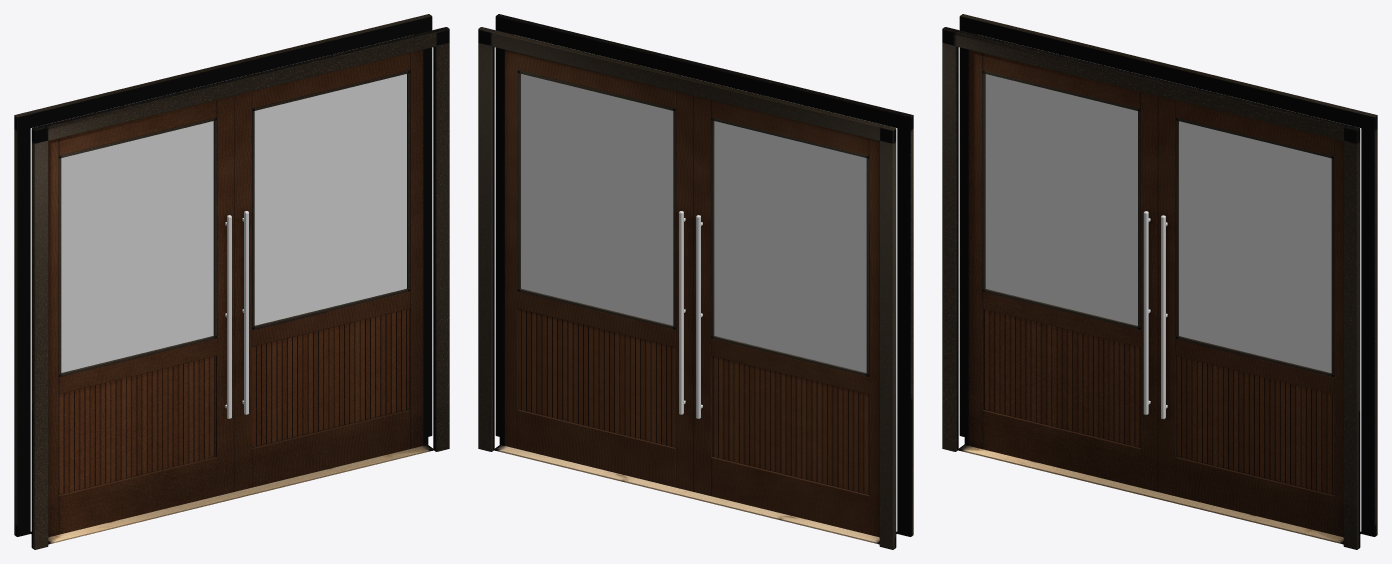
Rendered from door.glb.
3 renders of one model, left to right at view 1: azimuth 30°, elevation 25°; view 2: azimuth 150°, elevation 25°; view 3: azimuth 330°, elevation 25°, orthographic.
Parts seen in each view (by area): view 1: DoorLeft, DoorRight, DoorCasing, DoorLeftGlass, DoorRightGlass, DoorRightPull, DoorLeftPull; view 2: DoorLeft, DoorRight, DoorCasing, DoorLeftGlass, DoorRightGlass, DoorRightPull, DoorLeftPull; view 3: DoorRight, DoorCasing, DoorLeft, DoorRightGlass, DoorLeftGlass, DoorRightPull, DoorLeftPull.
Boxes of the visible parts, <box> form: DoorLeft: <box>234,48,428,491</box>; DoorRight: <box>48,95,234,537</box>; DoorCasing: <box>14,14,449,549</box>; DoorLeftGlass: <box>254,74,406,325</box>; DoorRightGlass: <box>61,121,213,372</box>; DoorRightPull: <box>225,215,231,418</box>; DoorLeftPull: <box>242,211,248,414</box>; DoorLeft: <box>499,48,693,491</box>; DoorRight: <box>693,95,879,537</box>; DoorCasing: <box>478,14,913,549</box>; DoorLeftGlass: <box>521,74,673,325</box>; DoorRightGlass: <box>714,121,866,372</box>; DoorRightPull: <box>696,215,702,418</box>; DoorLeftPull: <box>679,211,685,414</box>; DoorRight: <box>964,48,1158,491</box>; DoorCasing: <box>942,14,1377,549</box>; DoorLeft: <box>1158,96,1343,537</box>; DoorRightGlass: <box>985,74,1137,325</box>; DoorLeftGlass: <box>1179,121,1331,373</box>; DoorRightPull: <box>1143,211,1150,414</box>; DoorLeftPull: <box>1161,215,1167,419</box>.
Size of the model in its own units: 3 by 2.9 by 0.26.
Materials: 5 (3 with a texture image).
